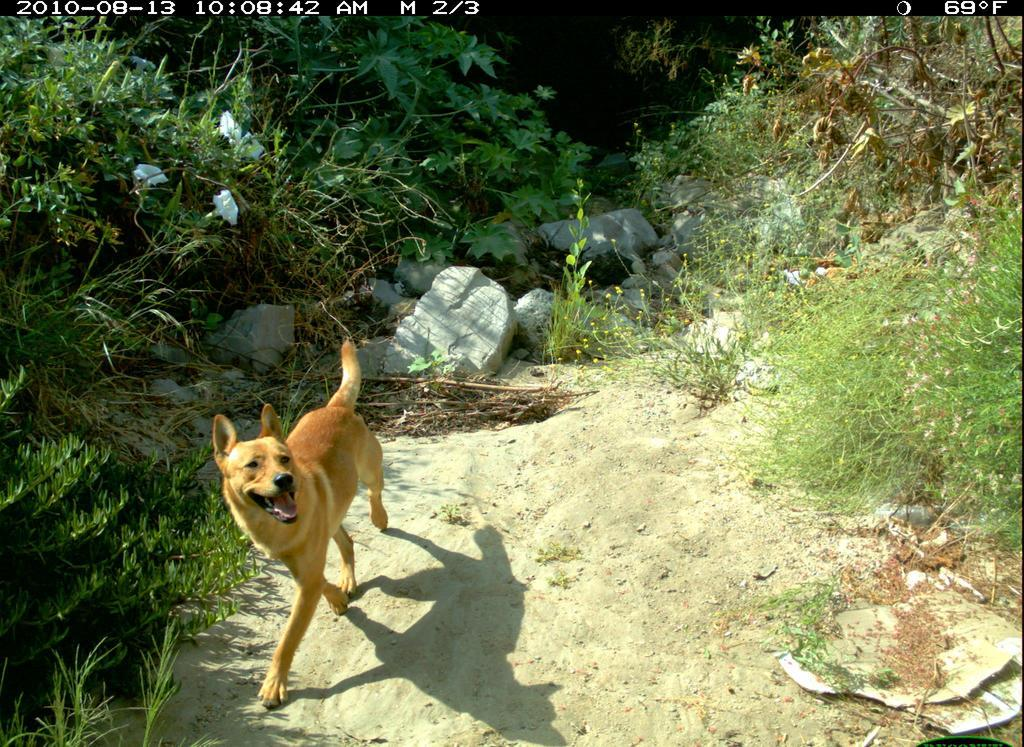dog: (207, 335, 397, 716)
